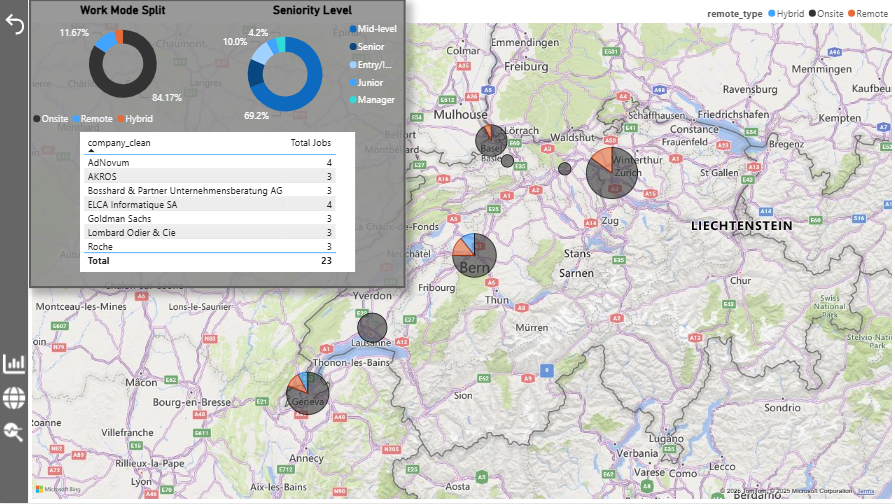

The page's visual inventory and layout, read from the dashboard file:
{"tool":"powerbi","page":{"name":"Swiss Map","canvas":[1280,720],"ordinal":1},"visuals":[{"type":"shape","box":[0,0,40,720],"z":0},{"type":"map","fields":{"Category":["jobs.Canton_Full"],"Size":["Measures table.Total Jobs"],"Series":["jobs.remote_type"]},"box":[42,0,1237.7,720],"z":1000},{"type":"actionButton","box":[42,0,538.1,413],"z":1000,"group":"g2"},{"type":"actionButton","box":[1.4,15.7,40,40],"z":2000},{"type":"group","id":"g1","title":"Group 1","box":[42,0,540,412.6],"z":3000},{"type":"actionButton","box":[0,502,42,40],"z":4000},{"type":"actionButton","box":[0,501.9,39.4,40.7],"z":5000},{"type":"actionButton","box":[0,550,40,40],"z":6000},{"type":"donutChart","title":"Work Mode Split","fields":{"Category":["jobs.remote_type"],"Y":["Measures table.Total Jobs"]},"box":[42,5.4,268.2,184.1],"z":6500,"group":"g2"},{"type":"donutChart","title":"Seniority Level","fields":{"Category":["jobs.seniority_level"],"Y":["Measures table.Total Jobs"]},"box":[311.9,5.4,269.9,184.1],"z":7000,"group":"g2"},{"type":"actionButton","box":[0,549.4,40,40],"z":7000},{"type":"tableEx","fields":{"Values":["jobs.company_clean","Measures table.Total Jobs"]},"box":[115.3,189.5,393.3,200.2],"z":7500,"group":"g2"},{"type":"actionButton","box":[0,600,39,39],"z":8000},{"type":"group","id":"g2","title":"Group 2","box":[42,0,539.9,413],"z":8502,"group":"g1"},{"type":"actionButton","box":[0,600,39,39],"z":9000}]}

Visuals, with their boxes on the page's 1280x720 design canvas (x1, y1, x2, y2). These are canvas units, not pixel positions in the 895x504 screenshot, which may show the page scaled, cropped or inside an application window:
shape: [left=0, top=0, right=40, bottom=720]
map - jobs.Canton_Full x Measures table.Total Jobs: [left=42, top=0, right=1280, bottom=720]
actionButton: [left=42, top=0, right=580, bottom=413]
actionButton: [left=1, top=16, right=41, bottom=56]
"Group 1" group: [left=42, top=0, right=582, bottom=413]
actionButton: [left=0, top=502, right=42, bottom=542]
actionButton: [left=0, top=502, right=39, bottom=543]
actionButton: [left=0, top=550, right=40, bottom=590]
"Work Mode Split" donutChart: [left=42, top=5, right=310, bottom=190]
"Seniority Level" donutChart: [left=312, top=5, right=582, bottom=190]
actionButton: [left=0, top=549, right=40, bottom=589]
tableEx - jobs.company_clean x Measures table.Total Jobs: [left=115, top=190, right=509, bottom=390]
actionButton: [left=0, top=600, right=39, bottom=639]
"Group 2" group: [left=42, top=0, right=582, bottom=413]
actionButton: [left=0, top=600, right=39, bottom=639]
